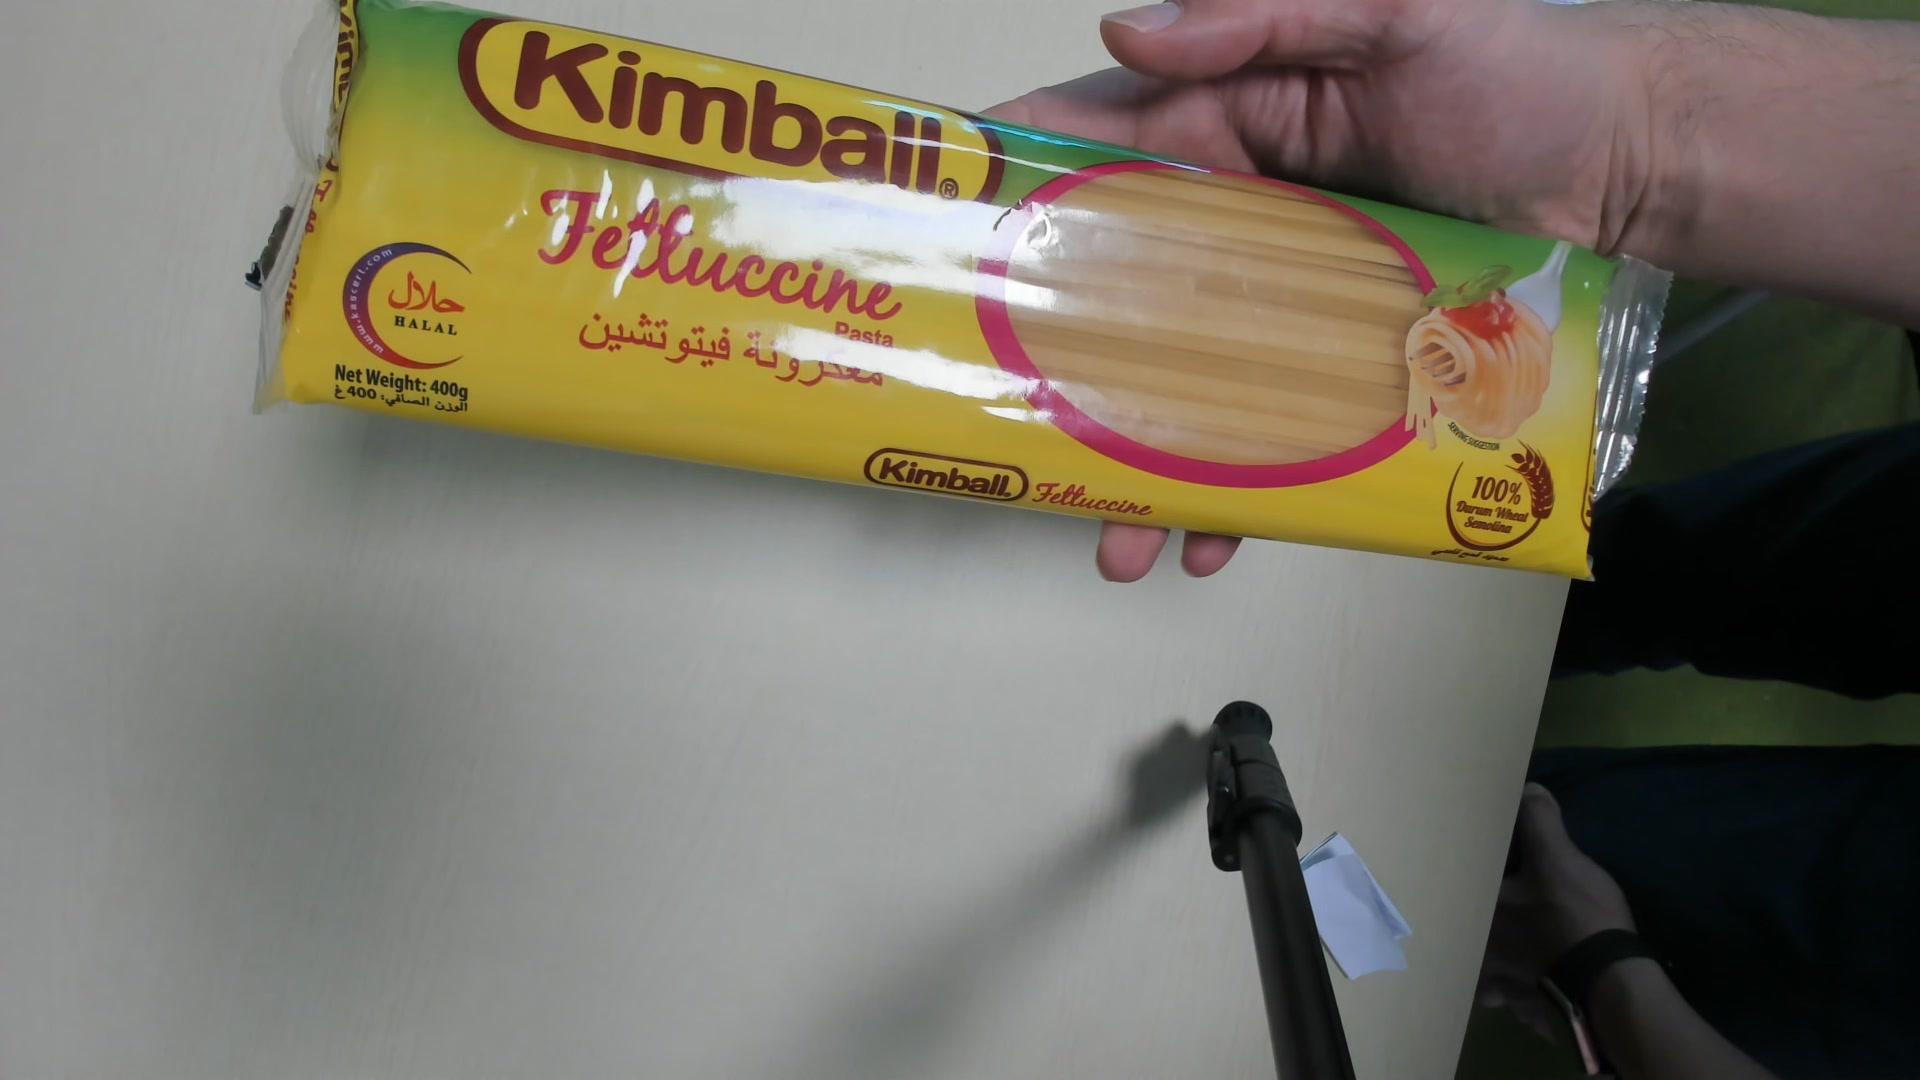Pasta_400-499g_Halal_NonHealthy: (243, 1, 1673, 592)
